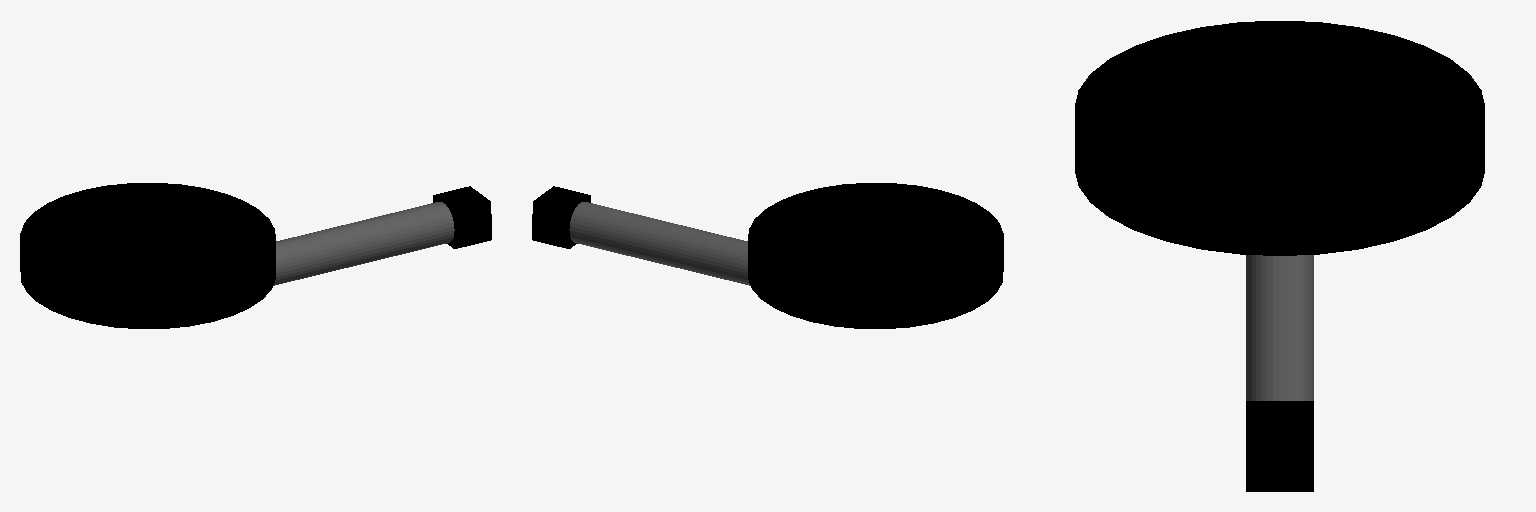
URDF robot description (bender):
<robot name="bender">

    <material name="black">
        <color rgba="0 0 0 1"/>
    </material>

    <material name="gray">
        <color rgba="0.4 0.4 0.4 1"/>
    </material>

    <material name="light gray">
        <color rgba="0.8 0.8 0.8 1"/>
    </material>

    <material name="light green">
        <color rgba="0.4 0.8 0.4 1"/>
    </material>

    <material name="light blue">
        <color rgba="0.4 0.4 0.8 1"/>
    </material>

    <material name="light red">
        <color rgba="0.8 0.4 0.4 1"/>
    </material>

    <link name="world"/>
    <link name="base">
        <visual>
            <geometry>
                <cylinder radius="0.3" length="0.1"/>   
            </geometry>
            <material name="black"/>
        </visual>
    </link>

    <link name="link_1">
        <visual>
            <geometry>
                <cylinder radius="0.05" length="0.8"/>   
            </geometry>
            <origin xyz="0.0 0 0.4" rpy="0 0 0" />
            <material name="gray"/>
        </visual>
        <inertial>
            <origin xyz="0 0 0.4" rpy="0 0 0"/>
            <mass value="1"/>
            <inertia ixx="1"  ixy="0"  ixz="0" iyy="0" iyz="0" izz="1" />
        </inertial>
    </link>

    <link name="link_eef">
        <visual>
            <geometry>
                <box size="0.1 0.1 0.1"/>   
            </geometry>
            <origin xyz="0 0 0.05" rpy="0 0 0" />
            <material name="black"/>
        </visual>
        <inertial>
            <origin xyz="0 0 0" rpy="0 0 0"/>
            <mass value="1"/>
            <inertia ixx="1"  ixy="0"  ixz="0" iyy="0" iyz="0" izz="1" />
        </inertial>
    </link>

    <joint name="world_to_base" type="fixed">
        <parent link="world"/>
        <child link="base"/>     
        <origin xyz="0 0 1.5" rpy="0 0 0"/>
    </joint>

    <joint name="joint_1" type="revolute">
        <parent link="base"/>
        <child link="link_1"/>
        <origin xyz="0.0 0 -0.1" rpy="0 1.57 0"/>
        <limit effort="0" velocity="0"/>
        <dynamics damping="1" friction="1"/>
        <axis xyz="0 1 0"/>
    </joint>

    <joint name="joint_eef" type="fixed">
        <parent link="link_1"/>
        <child link="link_eef"/>     
        <origin xyz="0 0 0.8" rpy="0 0 0"/>
    </joint>
</robot>

--- Render facts (derived) ---
The picture shows the robot from 3 angles, left to right: view 1: azimuth 30°, elevation 25°; view 2: azimuth 150°, elevation 25°; view 3: azimuth 270°, elevation 25°; orthographic projection.
Model bender with 4 links and 3 joints (1 revolute, 2 fixed), rooted at world, posed all joints at 0.
Links seen in each view (by area): view 1: base, link_1, link_eef; view 2: base, link_1, link_eef; view 3: base, link_1, link_eef.
Link boxes in pixels (<box>): base: <box>20,183,275,328</box>; link_1: <box>273,202,454,285</box>; link_eef: <box>433,186,491,248</box>; base: <box>748,183,1003,328</box>; link_1: <box>569,202,750,285</box>; link_eef: <box>532,186,590,248</box>; base: <box>1075,21,1484,255</box>; link_1: <box>1246,255,1313,400</box>; link_eef: <box>1246,401,1313,491</box>.
Size in the robot's own frame: 1.2 by 0.6 by 0.2 metres.
Geometry: primitives only (box / cylinder / sphere), no mesh files.
